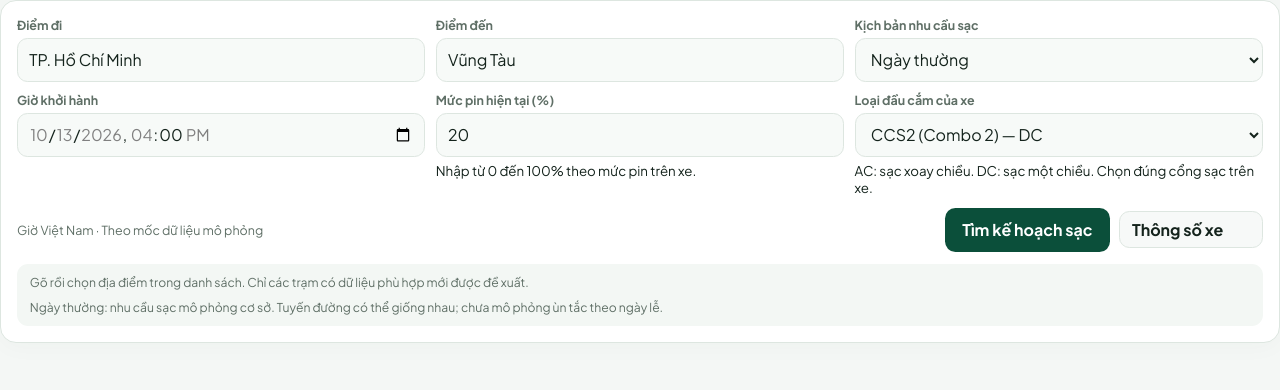
DriverForm › validates battery percentage -1
Replace the text in the field labelled "Mức pin hiện tại (%)" with "-1": (640, 135) [436, 113, 844, 157]
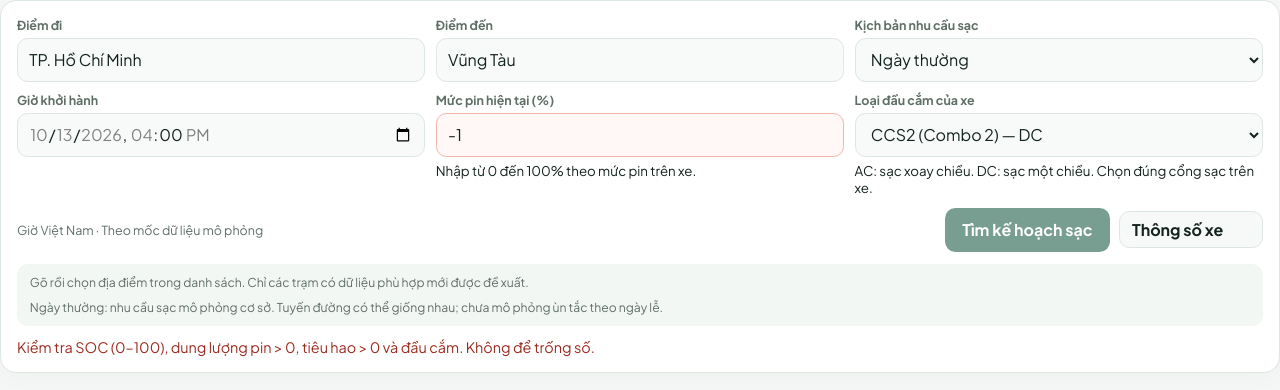
Result: the button "Tìm kế hoạch sạc" is disabled at [945, 208, 1110, 252]
